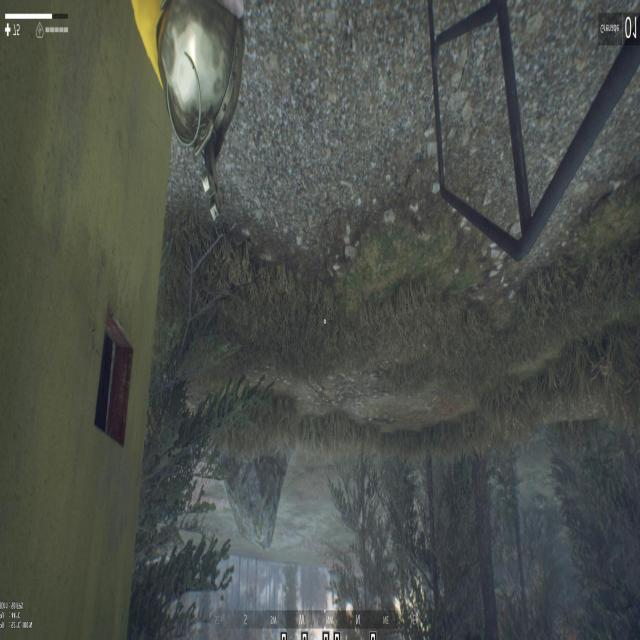grenade: (158, 2, 247, 224)
